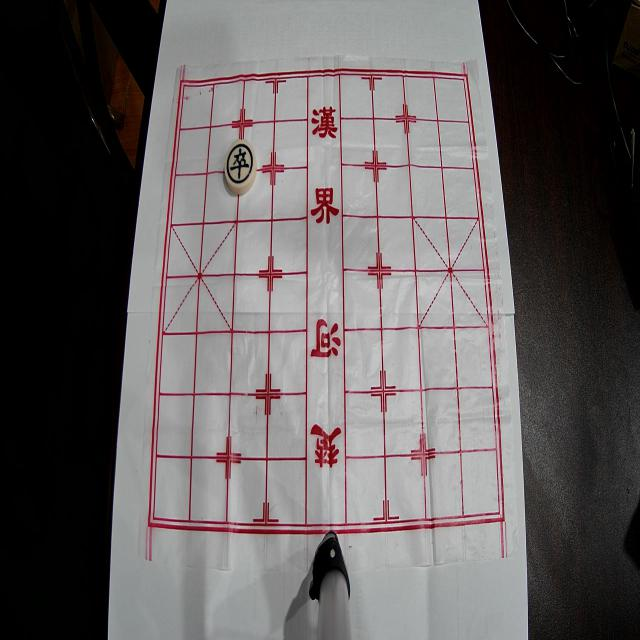black-soldier: (224, 139, 256, 195)
